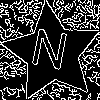N: (27, 28, 70, 79)
